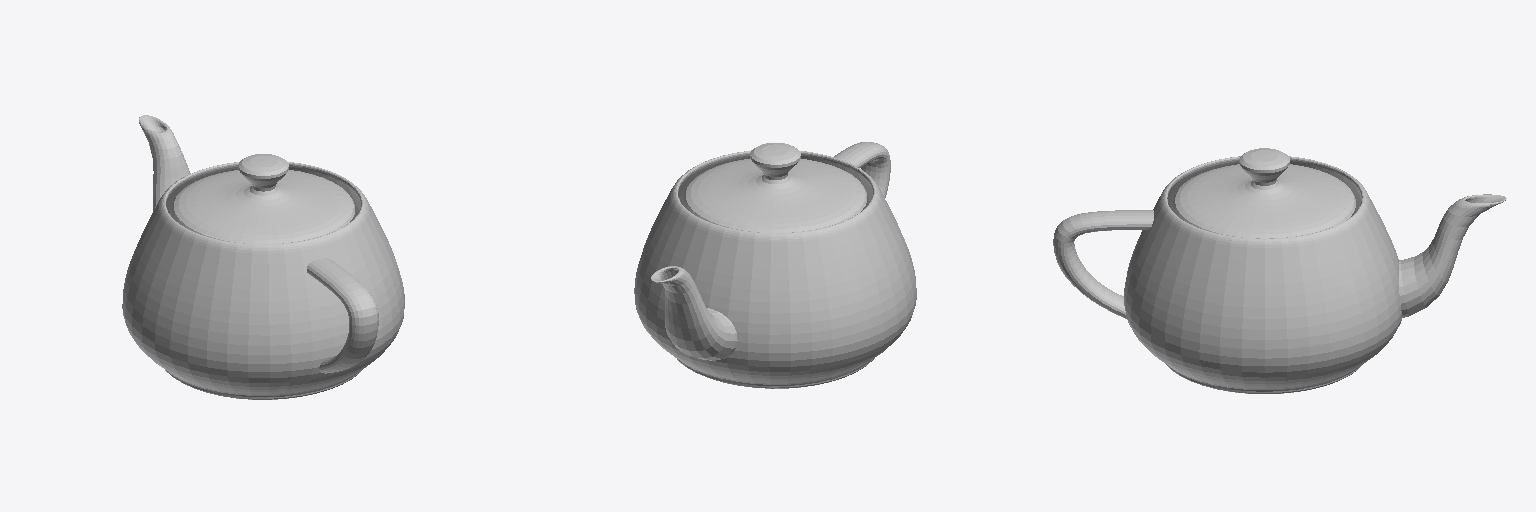
File: Utah_teapot.obj
The picture shows the model from 3 angles: view 1: azimuth 30°, elevation 25°; view 2: azimuth 150°, elevation 25°; view 3: azimuth 270°, elevation 25°; orthographic projection.
Visible parts, largest first — view 1: Utah_teapot; view 2: Utah_teapot; view 3: Utah_teapot.
Boxes of the visible parts, box(x1,y1,x2,y2) form: Utah_teapot: box(122, 115, 404, 399); Utah_teapot: box(634, 142, 916, 388); Utah_teapot: box(1053, 148, 1506, 393).
Bounding box in the file's own units: 4 × 3.15 × 6.43.